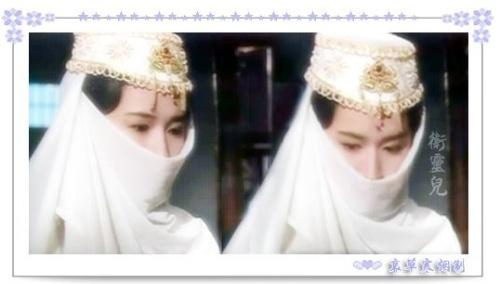WRONG: (95, 105, 192, 203), (329, 126, 411, 209)
